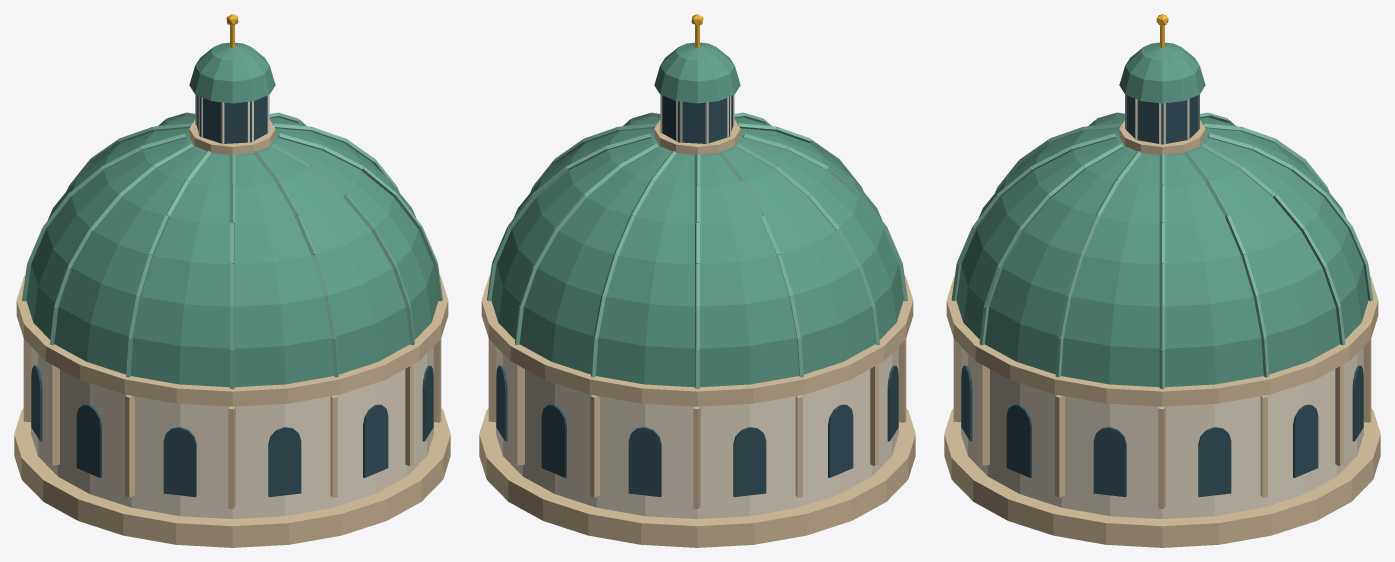
Rendered from lib_dome.glb.
The picture shows the model from 3 angles, left to right: view 1: azimuth 30°, elevation 25°; view 2: azimuth 150°, elevation 25°; view 3: azimuth 270°, elevation 25°; orthographic projection.
Parts seen in each view (by area): view 1: dome; view 2: dome; view 3: dome.
Part boxes in pixels (x1,y1,x2,y2): dome: (14, 14, 450, 547); dome: (479, 14, 915, 547); dome: (944, 14, 1380, 547).
Bounding box in the file's own units: 9.1 × 10.16 × 9.1.
